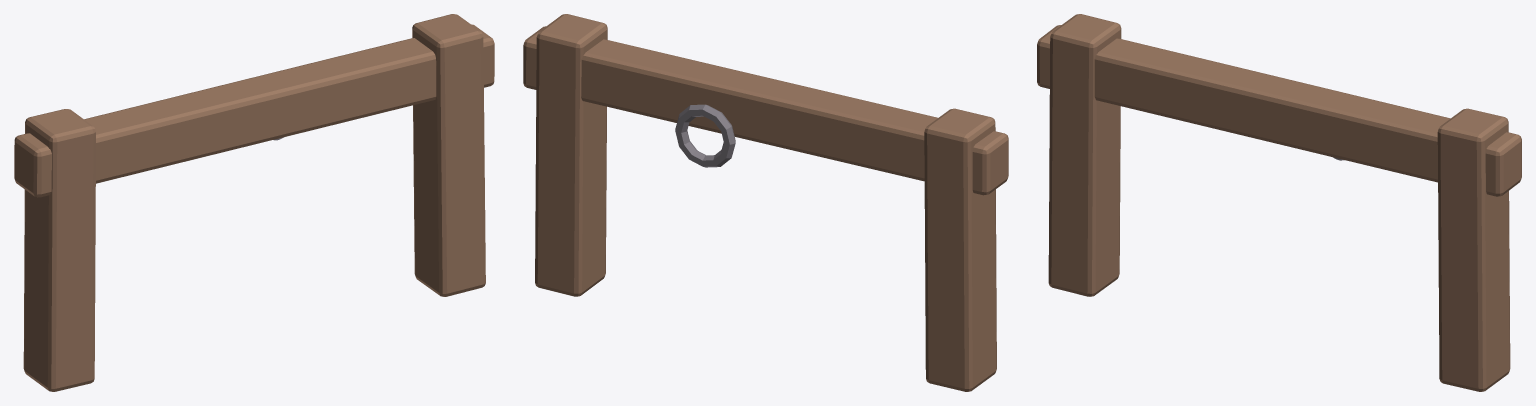
File: Kit_HitchPost.fbx
3 views of the same model, side by side, from view 1: azimuth 30°, elevation 25°; view 2: azimuth 150°, elevation 25°; view 3: azimuth 330°, elevation 25° (orthographic).
Parts seen in each view (by area): view 1: Kit_HitchPost; view 2: Kit_HitchPost; view 3: Kit_HitchPost.
Boxes of the visible parts, x1=… form: Kit_HitchPost: x1=14, y1=14, x2=494, y2=391; Kit_HitchPost: x1=523, y1=14, x2=1008, y2=391; Kit_HitchPost: x1=1037, y1=14, x2=1521, y2=391.
Size of the model in its own units: 2 by 1.06 by 0.2737.
